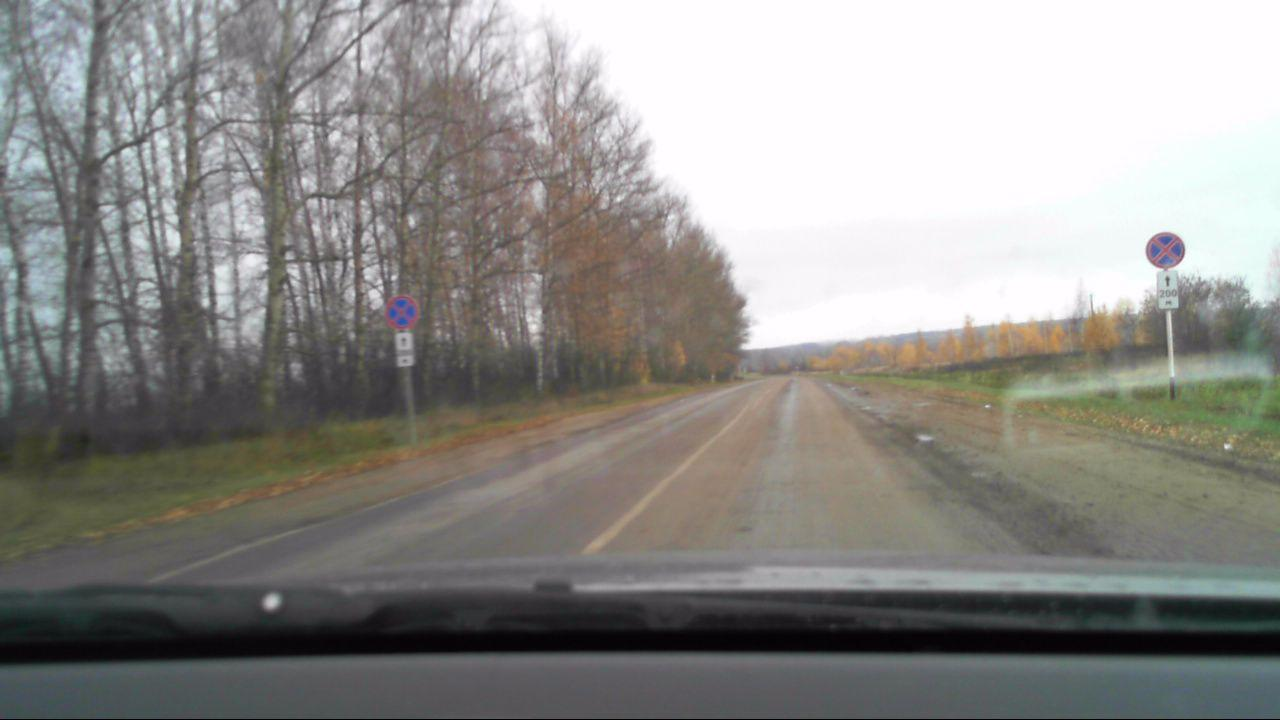3_27: (1143, 229, 1186, 267), (386, 294, 419, 329)
8_2_2: (1156, 274, 1181, 313), (396, 330, 417, 366)
